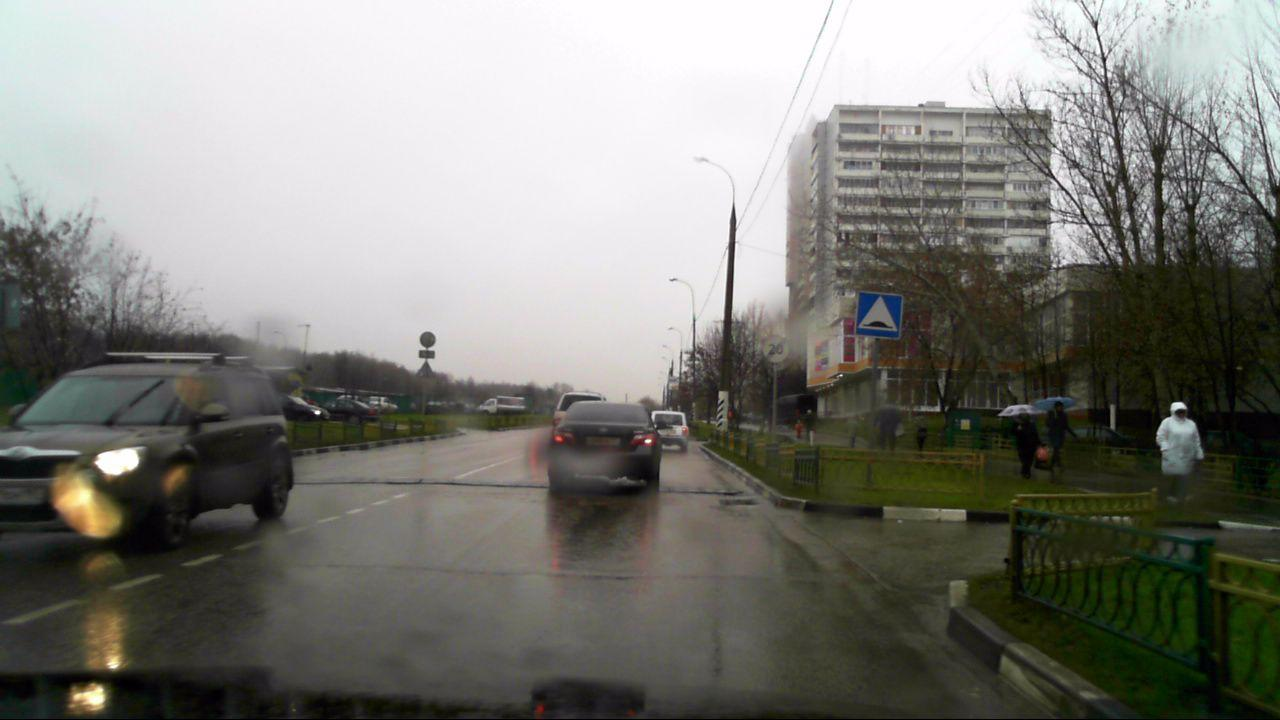3_25: (761, 336, 789, 363)
5_20: (853, 290, 909, 339)
